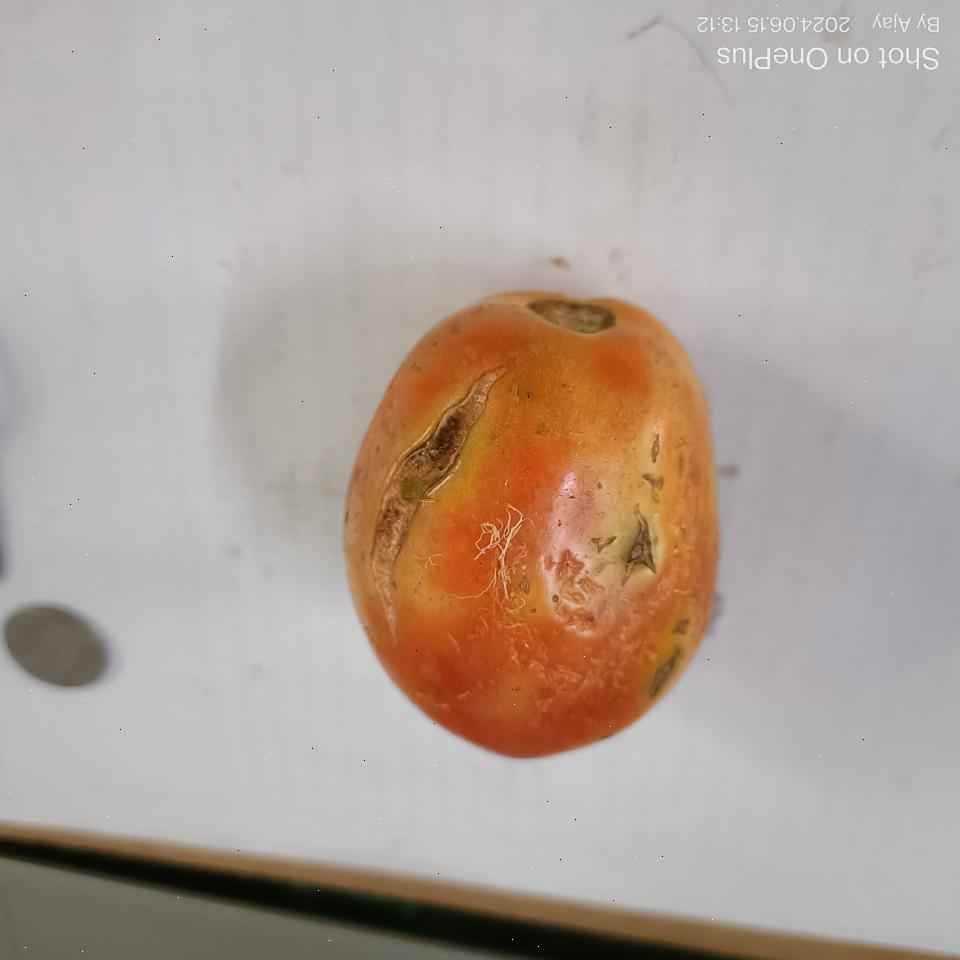Bacterial_Spot: (377, 374, 471, 576), (611, 522, 665, 584), (635, 426, 672, 486)
